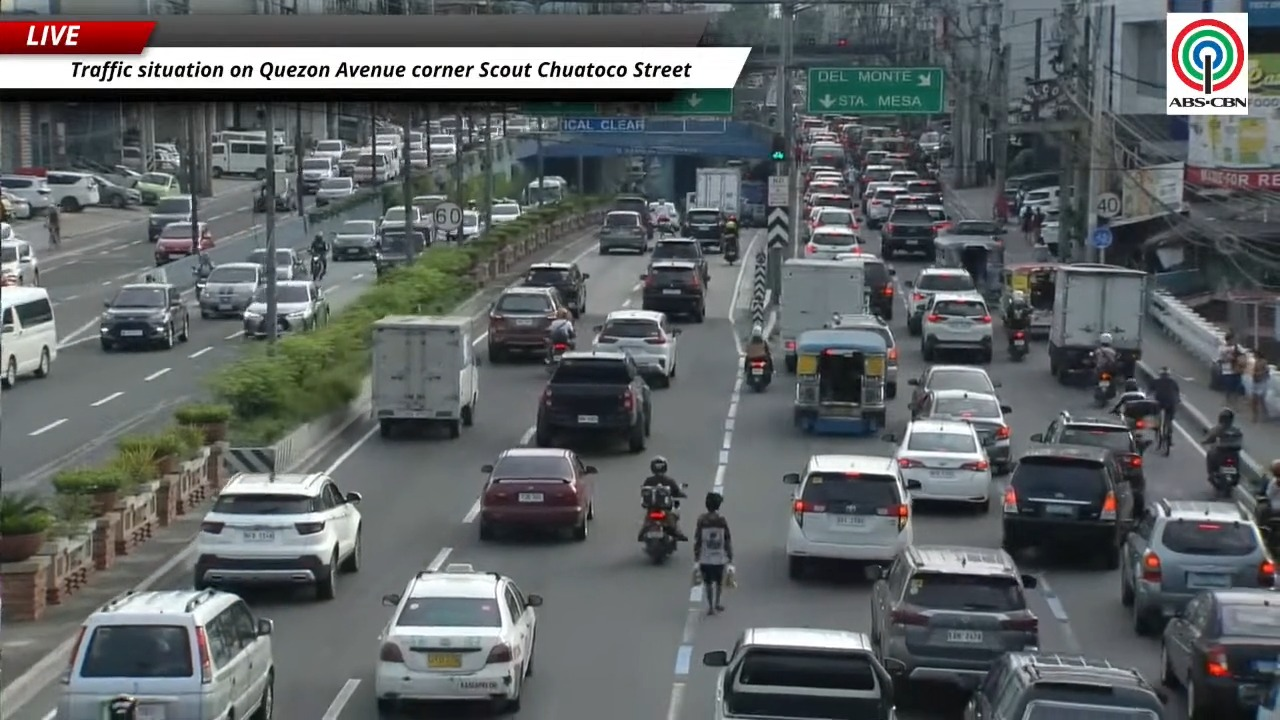bus: (210, 140, 266, 179), (522, 176, 568, 205), (210, 130, 264, 143)
car: (56, 589, 275, 719), (374, 563, 542, 714), (871, 545, 1038, 695), (193, 473, 361, 599), (1122, 499, 1275, 634), (702, 627, 895, 719), (784, 455, 918, 579), (1002, 445, 1132, 569), (1161, 587, 1279, 719), (964, 652, 1169, 719), (533, 350, 651, 453), (477, 447, 596, 540), (884, 419, 990, 511), (1030, 411, 1144, 486), (913, 391, 1011, 474), (593, 309, 681, 386), (0, 277, 57, 387), (100, 283, 189, 351), (827, 314, 898, 398), (487, 287, 566, 362), (908, 364, 1000, 419), (921, 293, 992, 363), (907, 267, 979, 335), (835, 249, 895, 321), (640, 260, 706, 322), (521, 262, 589, 318), (198, 262, 264, 318), (881, 205, 935, 259), (153, 221, 215, 265), (650, 238, 709, 284), (373, 227, 427, 277), (44, 170, 100, 211), (144, 195, 192, 242), (599, 210, 649, 254), (0, 175, 53, 214), (804, 225, 862, 259), (0, 236, 39, 285), (611, 194, 654, 238), (331, 219, 377, 260), (866, 184, 905, 228), (682, 208, 722, 250), (804, 206, 858, 237), (93, 174, 141, 208), (134, 172, 182, 205), (378, 205, 431, 233), (300, 155, 337, 194), (242, 286, 269, 338), (314, 177, 355, 206), (805, 176, 842, 206), (941, 219, 1006, 236), (859, 180, 890, 215), (274, 248, 307, 280), (272, 172, 299, 211), (455, 210, 485, 242), (0, 190, 32, 219), (805, 191, 853, 210), (338, 148, 367, 178), (924, 204, 952, 235), (859, 163, 892, 189), (411, 193, 448, 216), (649, 201, 681, 227), (905, 179, 942, 200), (809, 168, 846, 188), (491, 201, 521, 225), (890, 170, 919, 185)
motorcycle: (639, 486, 679, 564), (1254, 493, 1279, 555), (1208, 449, 1239, 498), (746, 358, 771, 392), (1093, 371, 1115, 407), (545, 342, 569, 372), (1008, 330, 1028, 361), (192, 267, 206, 299), (310, 253, 325, 281), (723, 240, 738, 265), (657, 218, 676, 236)
truck: (371, 315, 479, 437), (1048, 263, 1147, 383), (778, 258, 868, 372), (695, 168, 741, 215), (741, 180, 766, 227)
